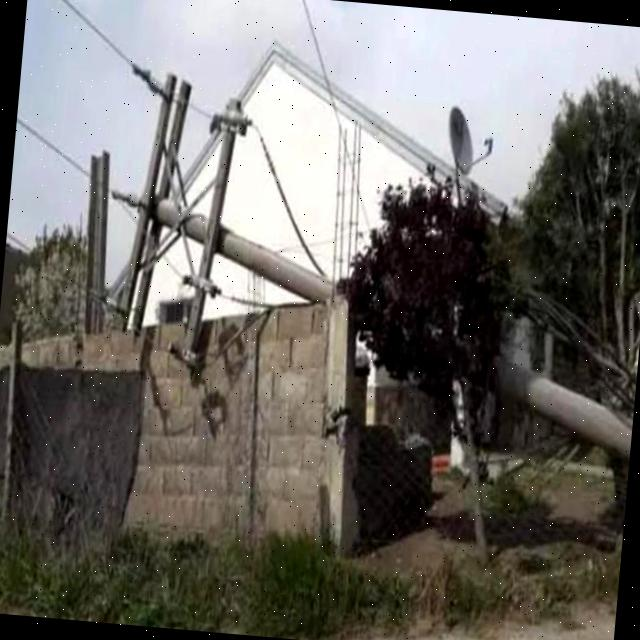Broken Pole: (98, 47, 633, 512)
